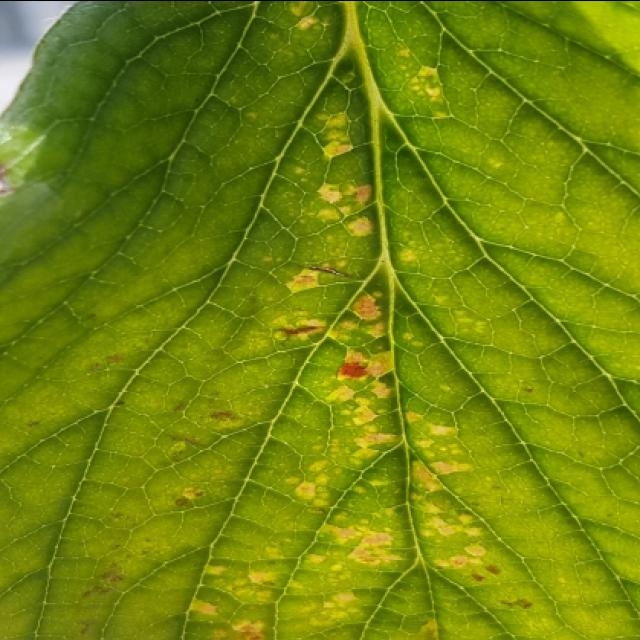Angular Leafspot: (69, 0, 547, 638)
